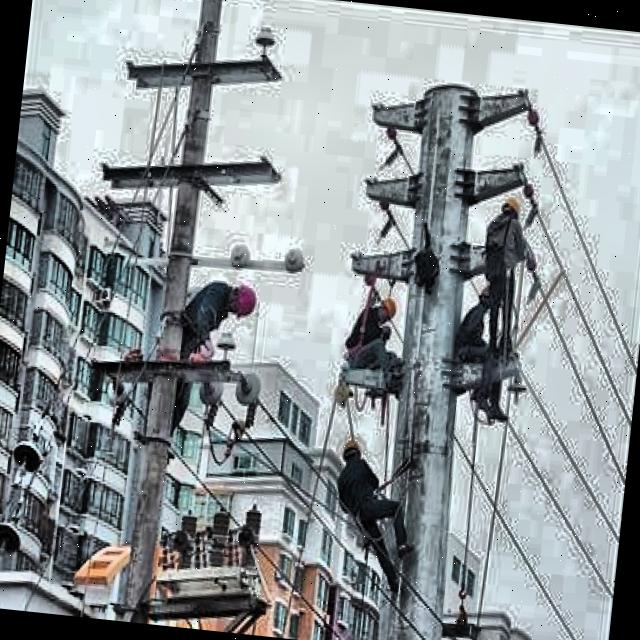helmet: (218, 283, 262, 323), (335, 439, 365, 474), (496, 190, 524, 226), (372, 292, 399, 326)
